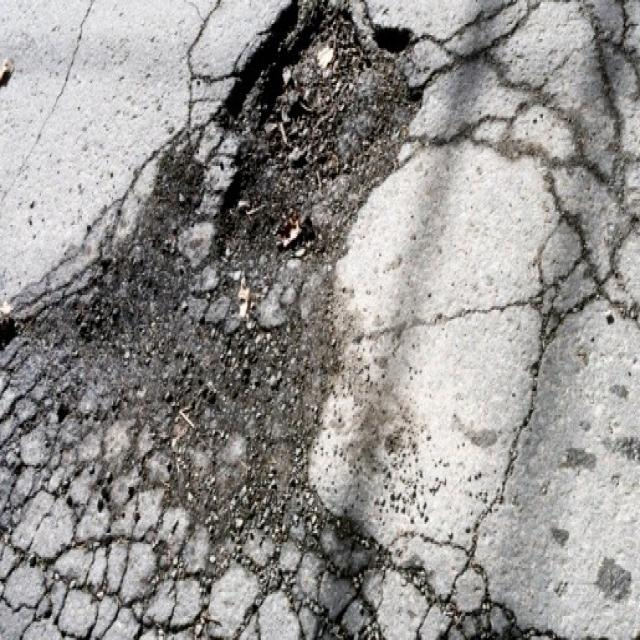road-pothole: (2, 0, 436, 564)
